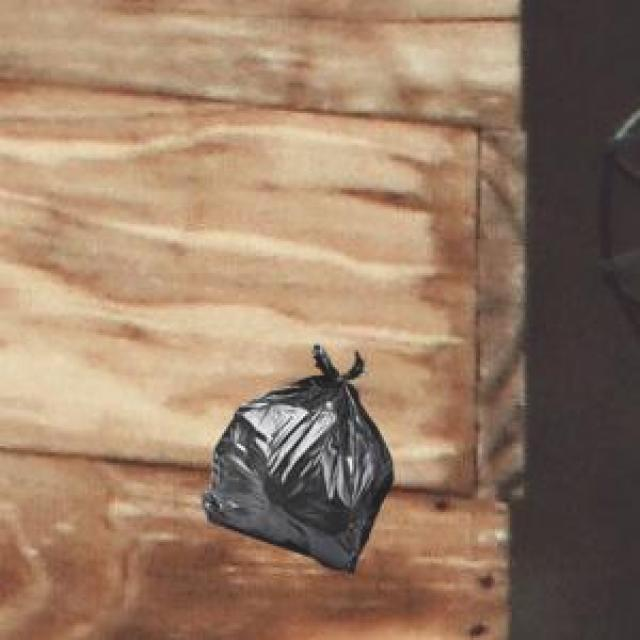Trashbag: (199, 344, 399, 579)
